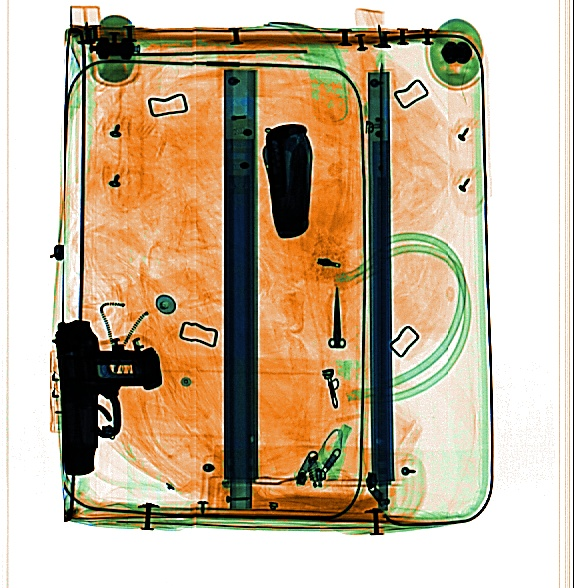gun: (52, 306, 168, 481)
knife: (255, 113, 320, 248)
scissors: (321, 276, 351, 351)
